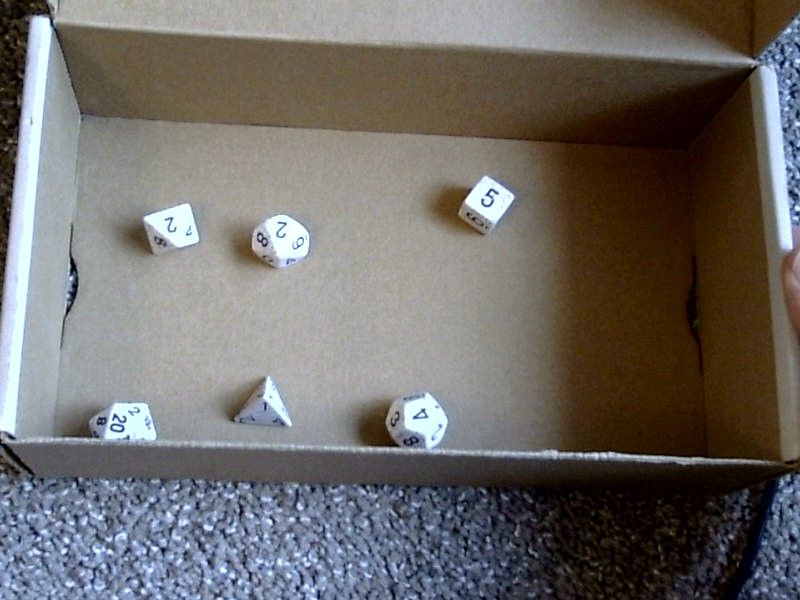d10 2: (243, 207, 319, 272)
d12 4: (376, 384, 455, 454)
d20 20: (82, 393, 168, 453)
d4 1: (227, 367, 300, 434)
d6 5: (454, 169, 518, 239)
d8 2: (135, 198, 209, 265)
